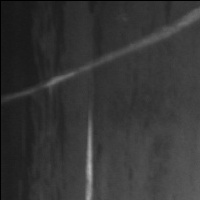inclusion: (1, 2, 68, 200)
scratches: (4, 6, 199, 101), (80, 104, 98, 200)
